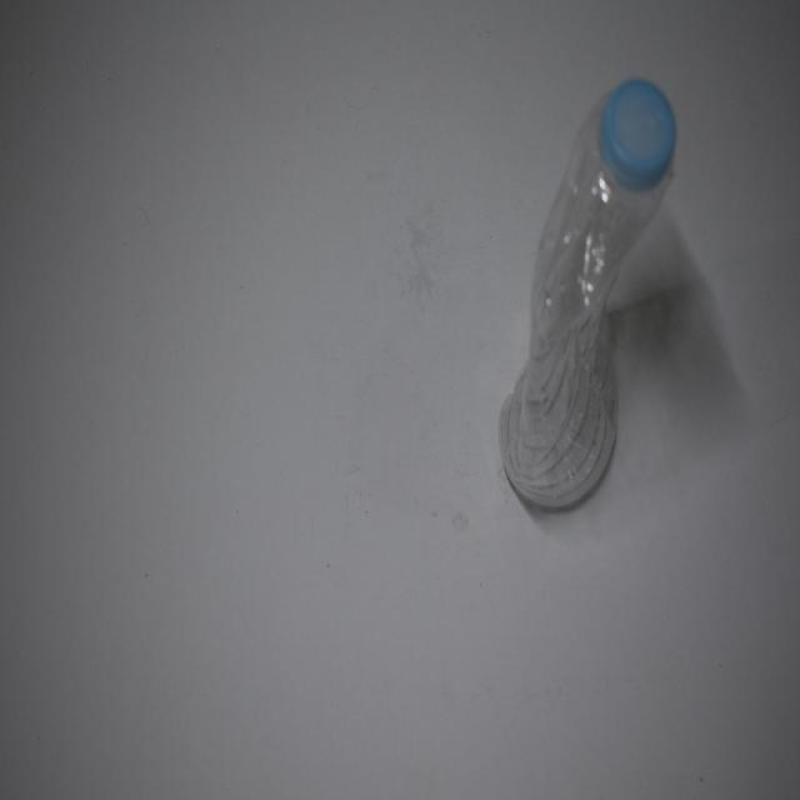botella: (501, 76, 679, 510)
